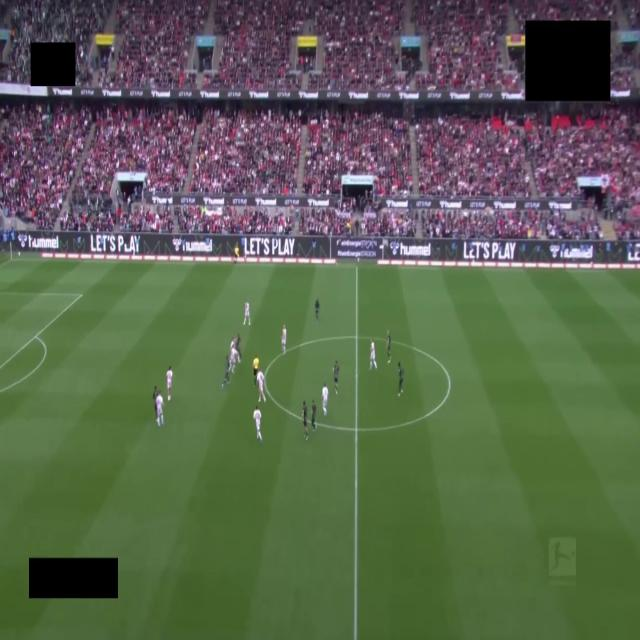player: (253, 407, 261, 442), (257, 371, 265, 402), (222, 357, 230, 387), (156, 392, 163, 426), (302, 401, 308, 440), (153, 386, 159, 420), (230, 348, 238, 373), (333, 360, 339, 393), (322, 384, 328, 415), (370, 339, 376, 369), (398, 362, 403, 396), (167, 367, 172, 401), (243, 302, 250, 325), (311, 400, 316, 431), (236, 334, 241, 363), (387, 331, 391, 363), (282, 326, 286, 353), (230, 336, 236, 352), (315, 298, 319, 321)
referee: (253, 357, 258, 385)
